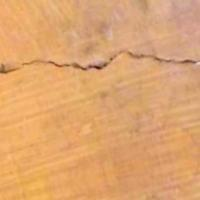crack: (1, 34, 199, 134)
